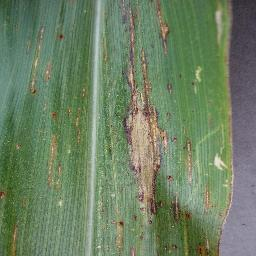Corn_Blight: (133, 113, 167, 222), (101, 9, 119, 210), (119, 0, 149, 113), (216, 49, 234, 142), (152, 0, 173, 55), (46, 131, 64, 191), (219, 183, 236, 246), (31, 21, 44, 96), (169, 127, 178, 222), (74, 86, 86, 145), (183, 136, 195, 186), (123, 112, 133, 172), (213, 8, 228, 47), (209, 146, 230, 173), (113, 216, 126, 256), (191, 240, 216, 256), (192, 64, 204, 97), (8, 223, 20, 255), (163, 79, 177, 98), (0, 184, 10, 206), (204, 188, 214, 210), (44, 60, 53, 84), (160, 242, 178, 254), (180, 202, 190, 223), (55, 31, 66, 44), (63, 102, 71, 117), (49, 108, 59, 118), (19, 139, 21, 152)
